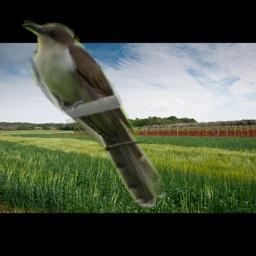Cuckoo: (21, 19, 166, 208)
